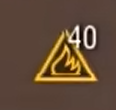1fire: (29, 50, 101, 85)
